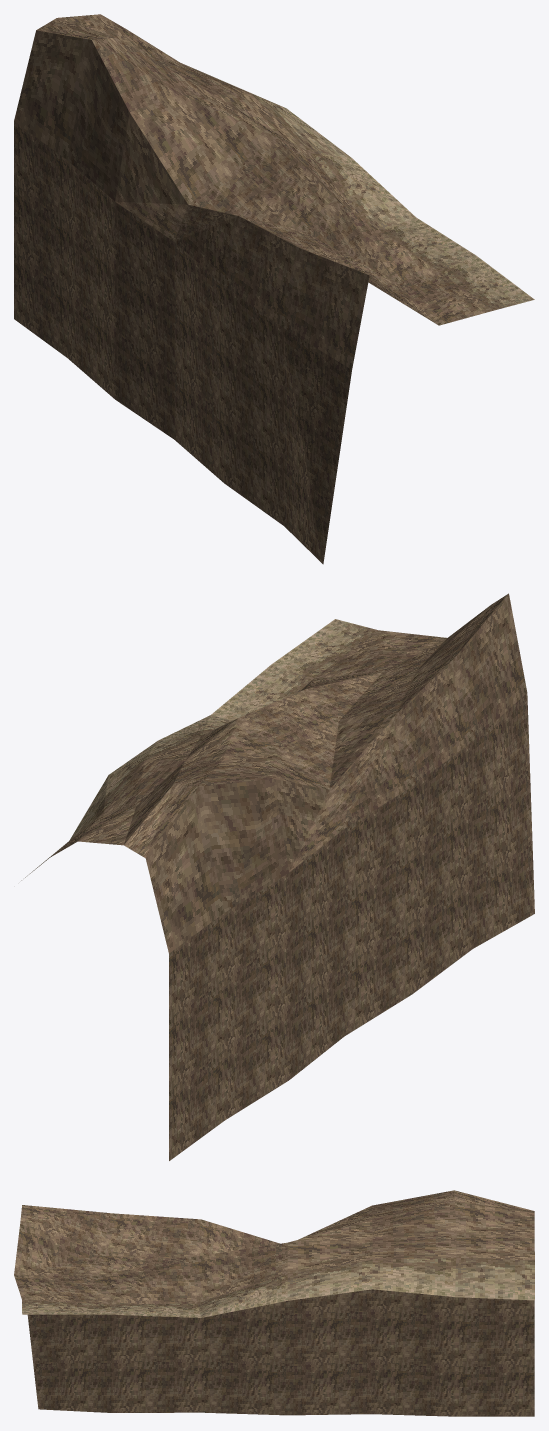
The model's file is lodasnedge22.obj.
The picture shows the model from 3 angles, top to bottom: view 1: azimuth 30°, elevation 25°; view 2: azimuth 150°, elevation 25°; view 3: azimuth 270°, elevation 25°; orthographic projection. The views are drawn at different scales.
Parts seen in each view (by area): view 1: lodasNedge22; view 2: lodasNedge22; view 3: lodasNedge22.
Part boxes in pixels (box(x1,y1,x2,y2)): lodasNedge22: box(14, 14, 534, 564); lodasNedge22: box(21, 593, 534, 1160); lodasNedge22: box(14, 1190, 534, 1416).
Bounding box in the file's own units: 74.66 × 110 × 221.
2 materials, 2 textured.
